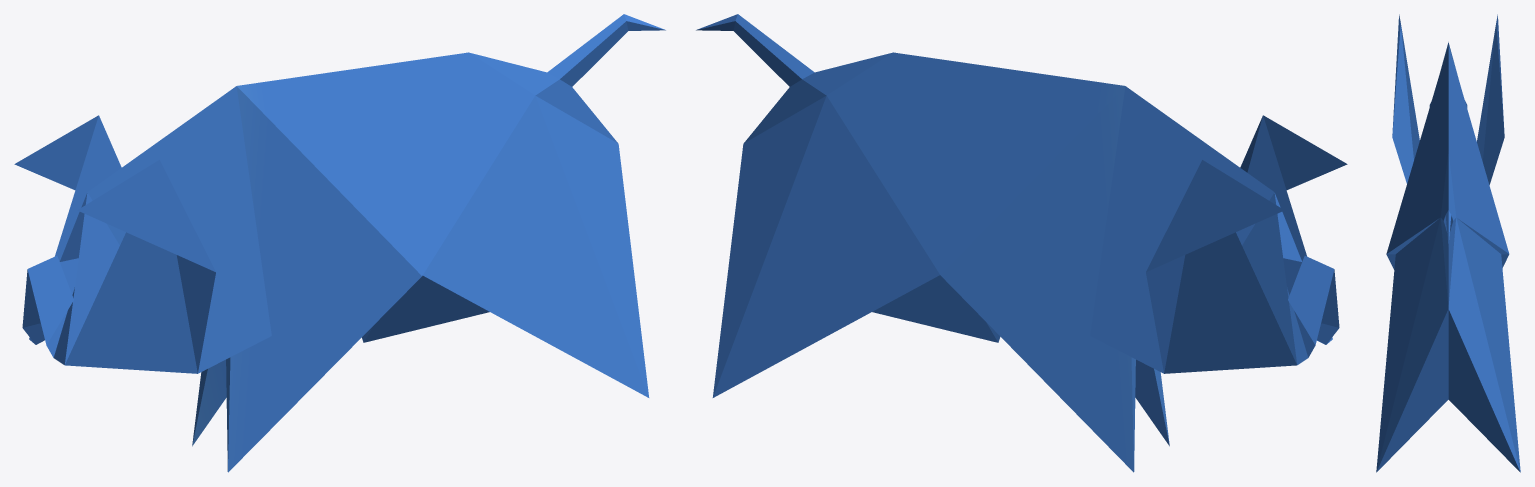
Rendered from Pig.fbx.
The picture shows the model from 3 angles, left to right: view 1: azimuth 30°, elevation 25°; view 2: azimuth 150°, elevation 25°; view 3: azimuth 270°, elevation 25°; orthographic projection. The views are drawn at different scales.
Parts seen in each view (by area): view 1: Pig; view 2: Pig; view 3: Pig.
Part boxes in pixels (left/top/right/bottom): Pig: left=14, top=14, right=665, bottom=472; Pig: left=696, top=14, right=1347, bottom=472; Pig: left=1376, top=14, right=1520, bottom=472.
Size of the model in its own units: 224 by 123 by 55.89.
